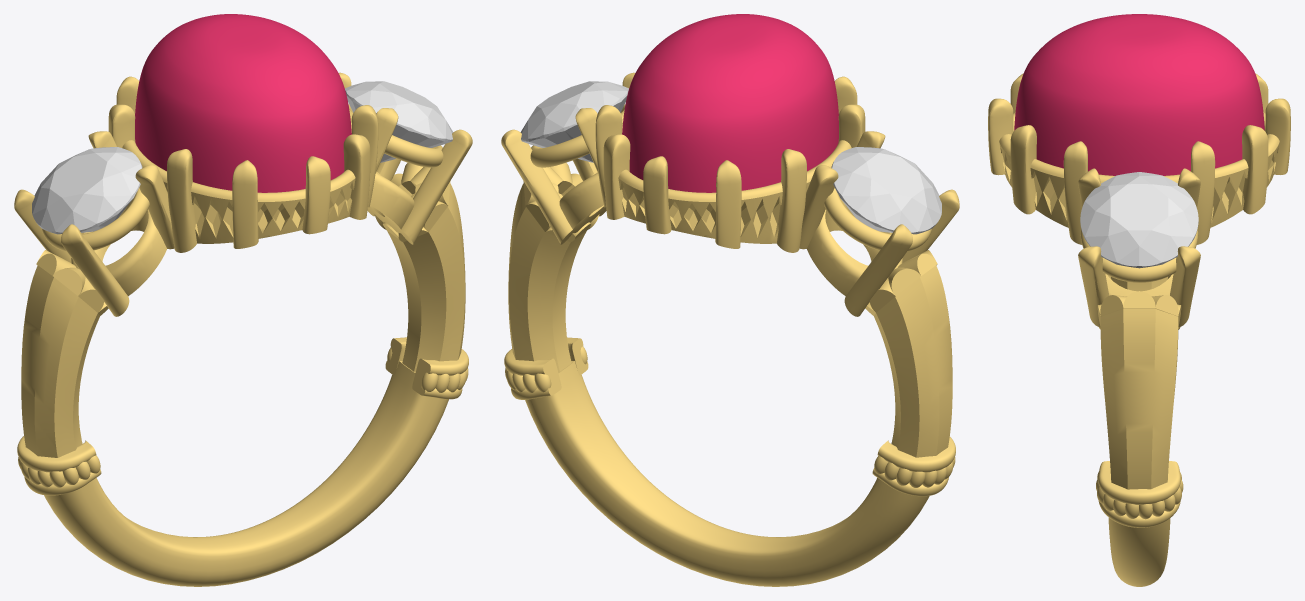
File: NickV3antique_blender.glb
3 views of the same model, side by side, from view 1: azimuth 30°, elevation 25°; view 2: azimuth 150°, elevation 25°; view 3: azimuth 270°, elevation 25° (orthographic).
Visible parts, largest first — view 1: v3 Nicholas YG for 3d model, v3 Nick Ruby for 3d model, Nicholas dia for 3d model.001, Nicholas dia for 3d model; view 2: v3 Nicholas YG for 3d model, v3 Nick Ruby for 3d model, Nicholas dia for 3d model.001, Nicholas dia for 3d model; view 3: v3 Nicholas YG for 3d model, v3 Nick Ruby for 3d model, Nicholas dia for 3d model.
Part boxes in pixels (x1,y1,x2,y2): v3 Nicholas YG for 3d model: (14, 72, 472, 586); v3 Nick Ruby for 3d model: (135, 14, 351, 192); Nicholas dia for 3d model.001: (32, 147, 142, 234); Nicholas dia for 3d model: (345, 81, 453, 162); v3 Nicholas YG for 3d model: (501, 72, 959, 586); v3 Nick Ruby for 3d model: (622, 14, 838, 192); Nicholas dia for 3d model.001: (831, 147, 941, 234); Nicholas dia for 3d model: (520, 81, 628, 162); v3 Nicholas YG for 3d model: (988, 73, 1290, 586); v3 Nick Ruby for 3d model: (1014, 14, 1264, 175); Nicholas dia for 3d model: (1080, 172, 1198, 268).
Size of the model in its own units: 19.81 by 23.39 by 12.03.
